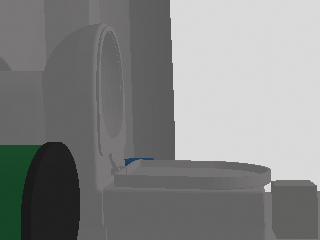lid_1: (113, 159, 270, 191)
